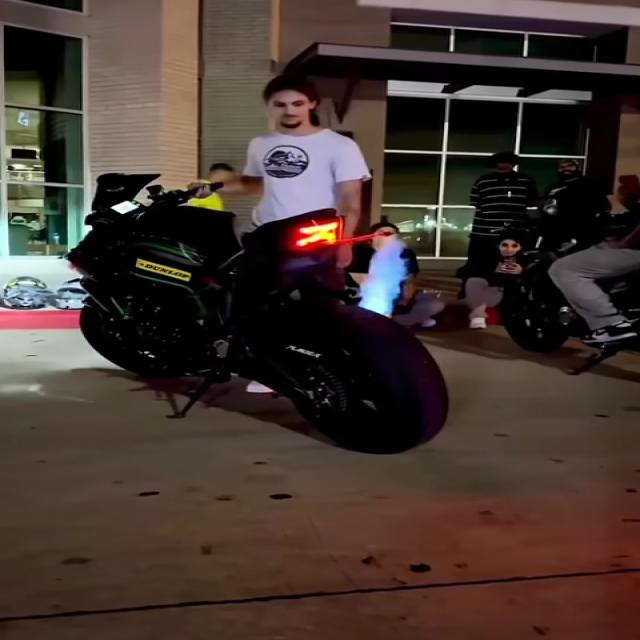fire: (359, 233, 409, 317)
